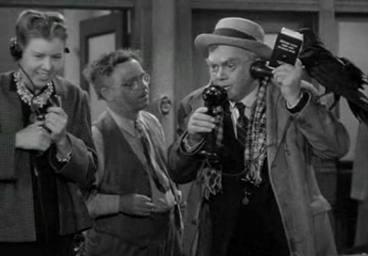face: (207, 51, 246, 98), (25, 41, 64, 87), (117, 65, 152, 109)
ms: (1, 1, 368, 256)
person: (165, 16, 352, 256), (1, 7, 98, 256), (82, 48, 183, 255)
